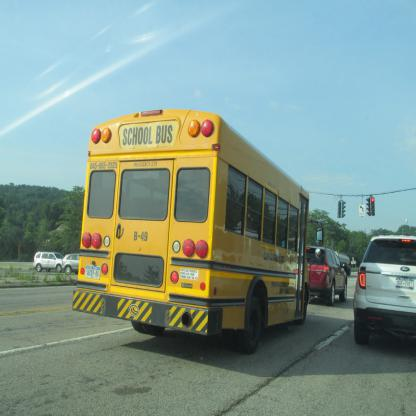Bus: (72, 105, 324, 356)
